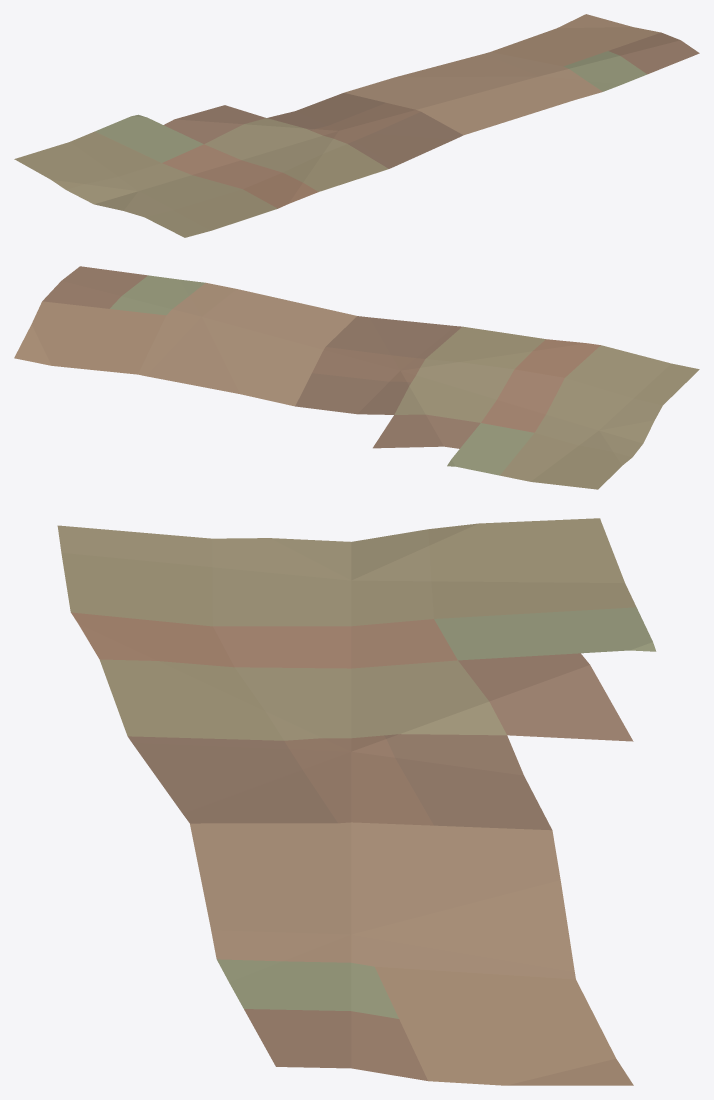
File: farm_9_26_soil.glb
3 renders of one model, top to bottom at view 1: azimuth 30°, elevation 25°; view 2: azimuth 150°, elevation 25°; view 3: azimuth 270°, elevation 25°, orthographic. The views are drawn at different scales.
Parts seen in each view (by area): view 1: geometry_0; view 2: geometry_0; view 3: geometry_0.
Part boxes in pixels (bbox=[...]): geometry_0: bbox=[14, 14, 699, 237]; geometry_0: bbox=[14, 266, 699, 489]; geometry_0: bbox=[57, 518, 656, 1085].
Size of the model in its own units: 241 by 9.07 by 104.
